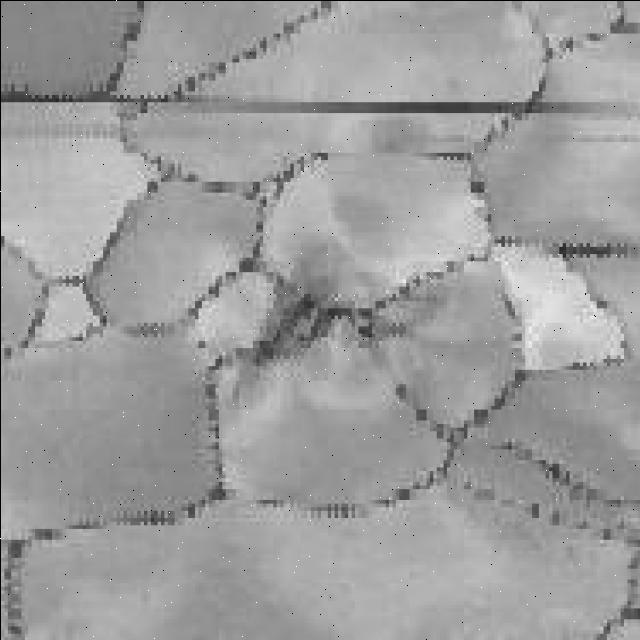good_void: (237, 281, 343, 367)
